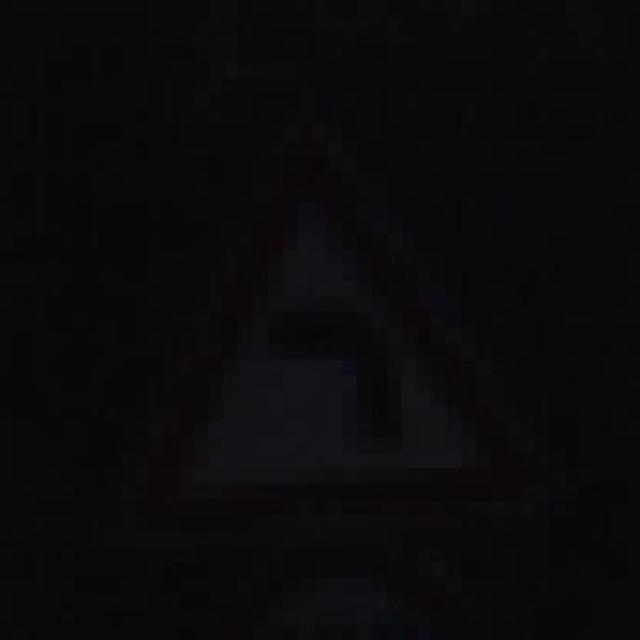Dangerous Left Curve Ahead: (74, 109, 520, 546)
